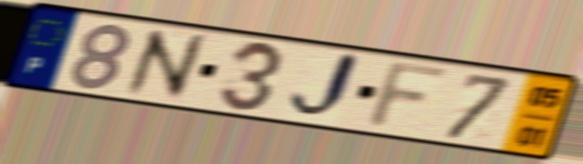3: (217, 40, 285, 115)
7: (443, 71, 517, 141)
8: (69, 21, 135, 92)
F: (360, 59, 458, 133)
J: (285, 49, 365, 123)
N: (121, 26, 209, 101)
